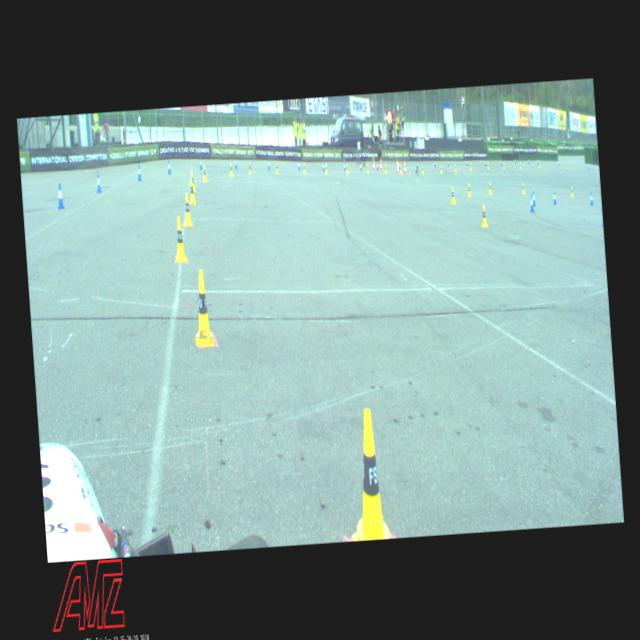blue_cone: (56, 182, 64, 209), (95, 170, 102, 192), (136, 163, 142, 181), (528, 194, 534, 212), (166, 158, 172, 174), (552, 189, 556, 205), (532, 190, 536, 206), (589, 191, 593, 205), (198, 156, 202, 170), (234, 156, 237, 169), (359, 160, 362, 171), (267, 158, 270, 169), (297, 160, 300, 170), (433, 159, 436, 168), (483, 158, 486, 167), (556, 158, 559, 167), (499, 158, 502, 166), (466, 158, 469, 166), (322, 162, 324, 172), (398, 160, 400, 170), (343, 162, 345, 171), (376, 161, 378, 170), (446, 158, 448, 166), (587, 161, 589, 169), (514, 156, 516, 164), (527, 156, 529, 164), (536, 158, 538, 165)
large_orange_cone: (402, 159, 407, 174), (396, 158, 400, 174), (378, 156, 382, 170), (372, 157, 374, 170)
yellow_cone: (343, 406, 391, 540), (190, 268, 213, 346), (172, 215, 187, 262), (182, 192, 192, 226), (480, 204, 488, 228), (188, 178, 195, 204), (190, 171, 196, 192), (466, 181, 471, 197), (202, 164, 206, 182), (228, 162, 233, 176), (450, 186, 454, 203), (248, 162, 252, 174), (570, 185, 574, 197), (324, 162, 328, 173), (302, 163, 306, 174), (488, 181, 491, 194), (384, 163, 387, 173), (469, 161, 472, 170), (439, 164, 442, 173), (276, 161, 278, 174), (522, 182, 524, 194), (366, 162, 368, 174), (566, 161, 569, 169), (346, 163, 348, 173), (420, 164, 422, 173), (454, 162, 456, 171), (486, 161, 488, 170), (399, 164, 401, 173), (502, 162, 504, 170), (518, 160, 520, 168), (538, 161, 540, 168)
